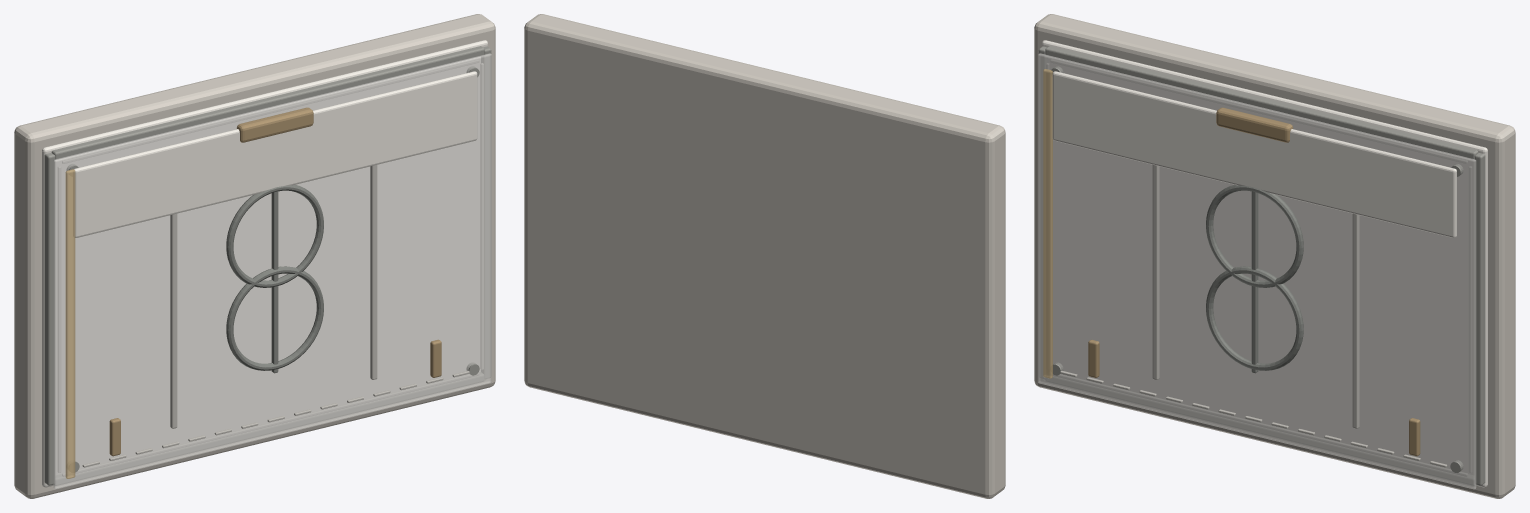
The model's file is jarvis-archive-v1.glb.
3 renders of one model, left to right at view 1: azimuth 30°, elevation 25°; view 2: azimuth 150°, elevation 25°; view 3: azimuth 330°, elevation 25°, orthographic.
Parts seen in each view (by area): view 1: Glass, Inset, Body, LabelCarrier, FrameTopBottom.001, FrameSide, AmberSpine, FrameTopBottom, FrameSide.001, RingBottom, RingTop, InnerRail (+7 smaller); view 2: Body; view 3: Glass, Inset, Body, LabelCarrier, FrameTopBottom.001, FrameSide.001, FrameTopBottom, AmberSpine, RingBottom, RingTop, InnerRail, InnerRail.001 (+6 smaller).
Part boxes in pixels (x1,y1,x2,y2): Glass: (53,53,491,489); Inset: (42,40,487,487); Body: (14,14,495,498); LabelCarrier: (73,71,477,237); FrameTopBottom.001: (51,46,484,159); FrameSide: (44,153,55,485); AmberSpine: (65,169,75,478); FrameTopBottom: (54,372,484,485); FrameSide.001: (481,46,491,378); RingBottom: (226,266,323,370); RingTop: (226,184,323,287); InnerRail: (170,213,177,428); Body: (524,14,1005,498); Glass: (1038,53,1476,489); Inset: (1042,40,1487,487); Body: (1034,14,1515,498); LabelCarrier: (1052,71,1456,237); FrameTopBottom.001: (1045,46,1478,159); FrameSide.001: (1474,153,1485,485); FrameTopBottom: (1045,376,1475,485); AmberSpine: (1043,69,1052,378); RingBottom: (1206,266,1303,370); RingTop: (1206,184,1303,287); InnerRail: (1152,165,1159,379); InnerRail.001: (1352,213,1359,428).
Bounding box in the file's own units: 4.98 × 3.7 × 0.58.
